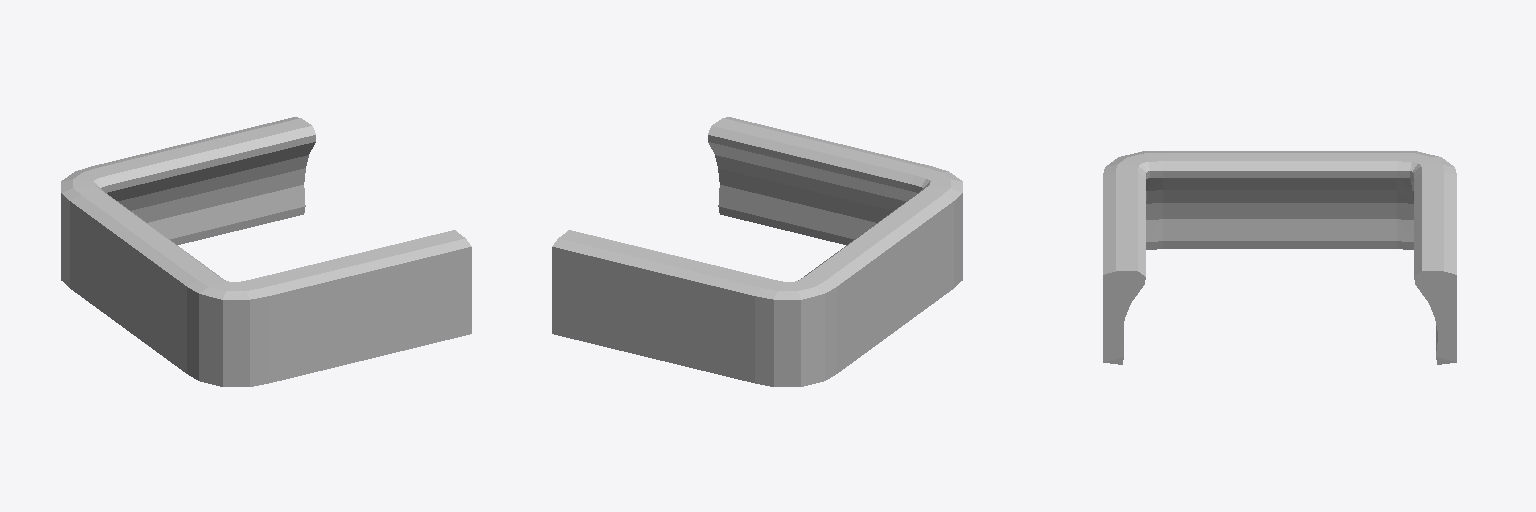
File: InwardCurvedWall_Upper_3edges.obj
3 renders of one model, left to right at view 1: azimuth 30°, elevation 25°; view 2: azimuth 150°, elevation 25°; view 3: azimuth 270°, elevation 25°, orthographic.
Parts seen in each view (by area): view 1: InwardCurvedWall_Upper_3_edges export_grp; view 2: InwardCurvedWall_Upper_3_edges export_grp; view 3: InwardCurvedWall_Upper_3_edges export_grp.
Part boxes in pixels (x1,y1,x2,y2): InwardCurvedWall_Upper_3_edges export_grp: (61, 117, 471, 386); InwardCurvedWall_Upper_3_edges export_grp: (552, 117, 962, 386); InwardCurvedWall_Upper_3_edges export_grp: (1103, 151, 1456, 364).
Bounding box in the file's own units: 10.05 × 3.55 × 12.1.